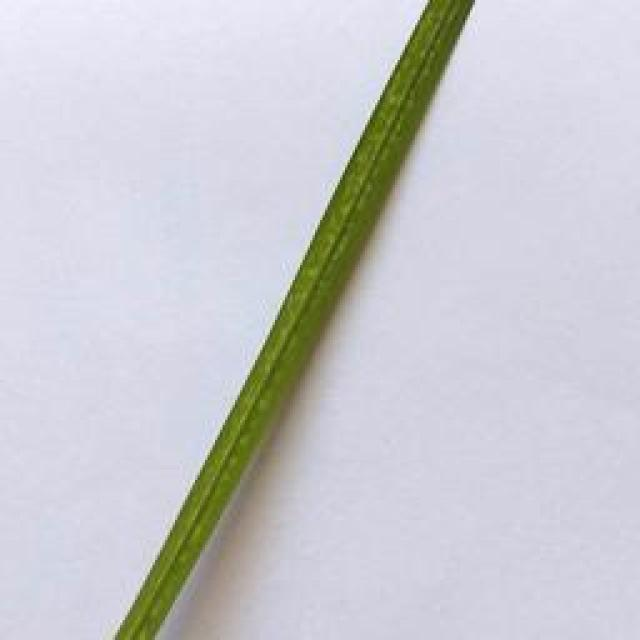Healthy-Plant: (110, 0, 474, 640)
